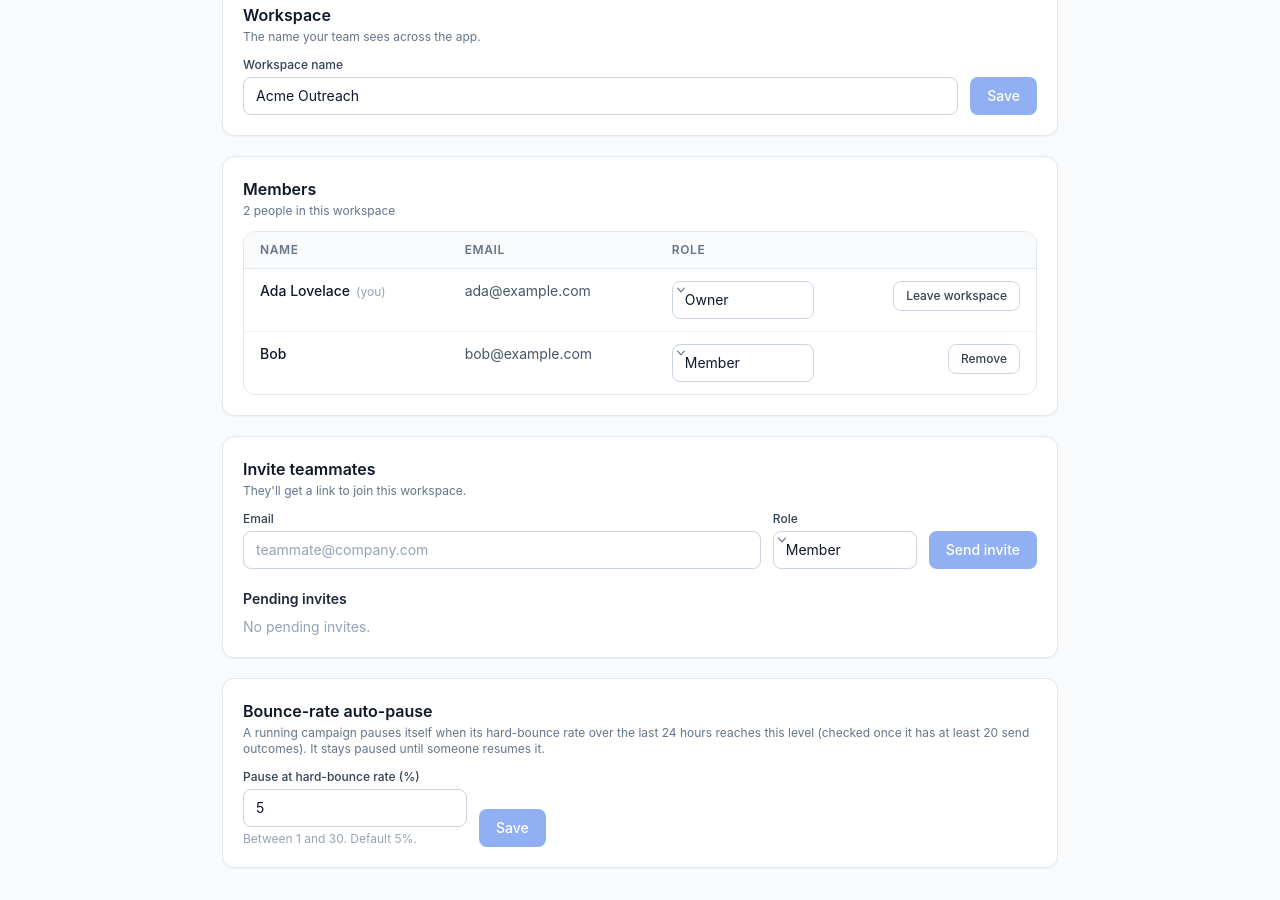
Test case: Settings — Workspace tab — bounce-rate auto-pause › lets an owner raise the threshold and reset it
(page scrolled)
Expected: the button with test id "bounce-threshold-save" is disabled, [479, 809, 546, 847]
Step 1. Replace the text in the number field with test id "bounce-threshold-input" with "10" → [355, 808], box [243, 789, 467, 827]
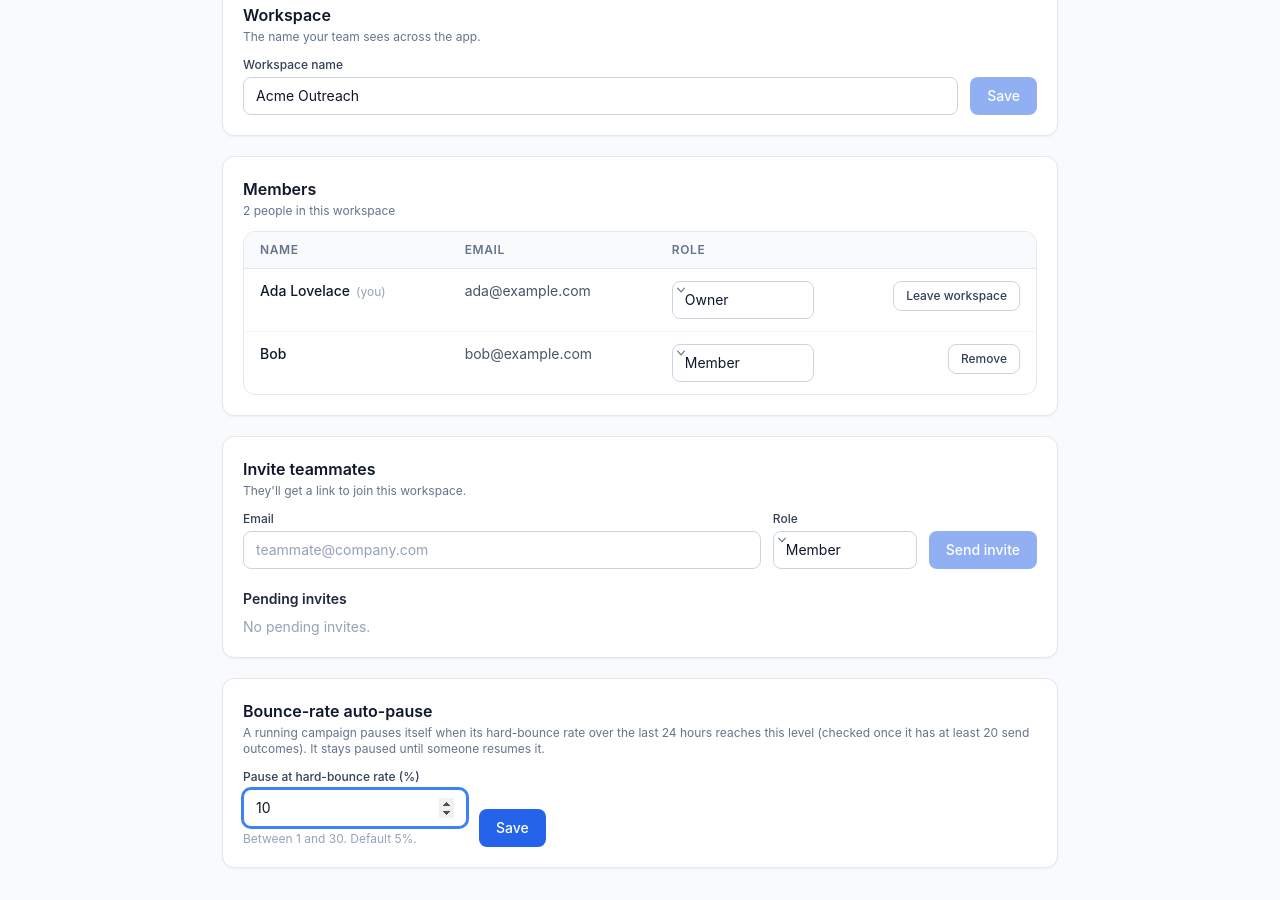
Step 2. Click the button with test id "bounce-threshold-save" → [512, 828], box [479, 809, 546, 847]
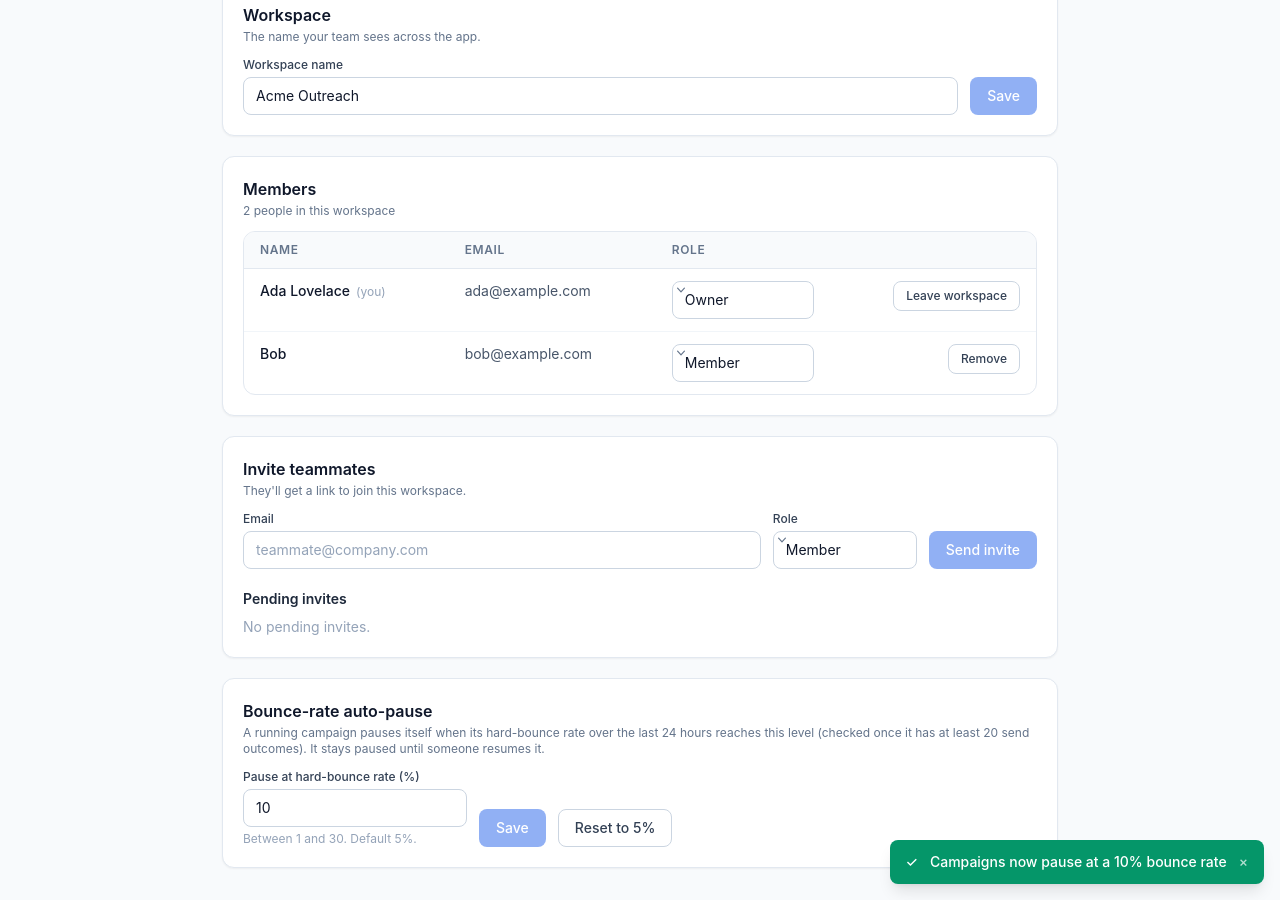
Step 3. Click the button with test id "bounce-threshold-reset" → [615, 828], box [558, 809, 672, 847]
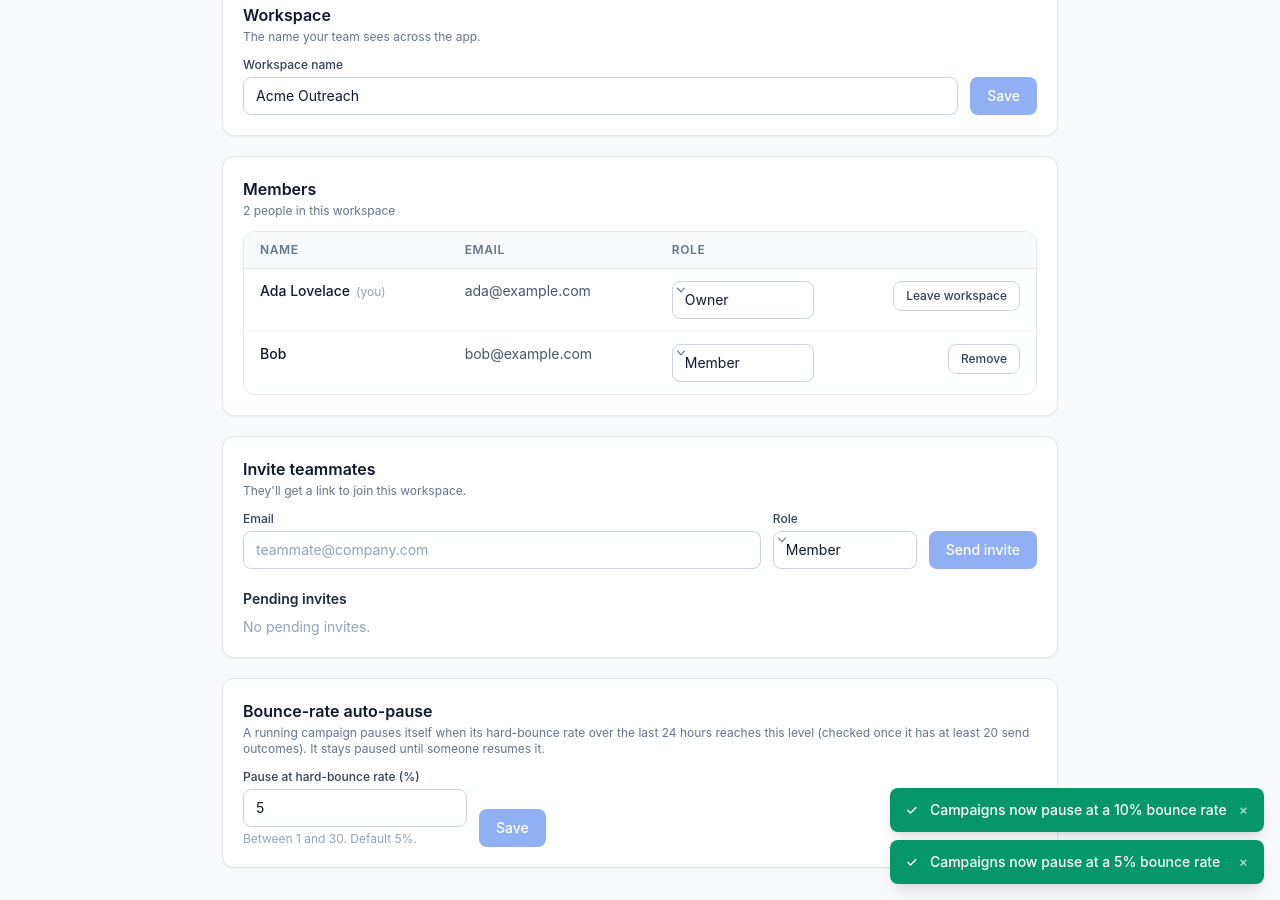
Result: the number field with test id "bounce-threshold-input" holds "5" at [243, 789, 467, 827]
